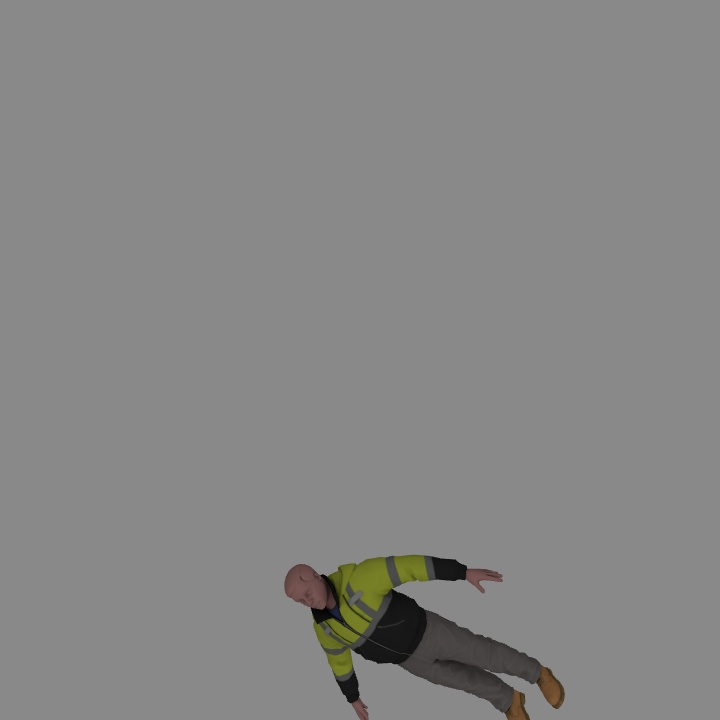victim: (284, 557, 565, 719)
